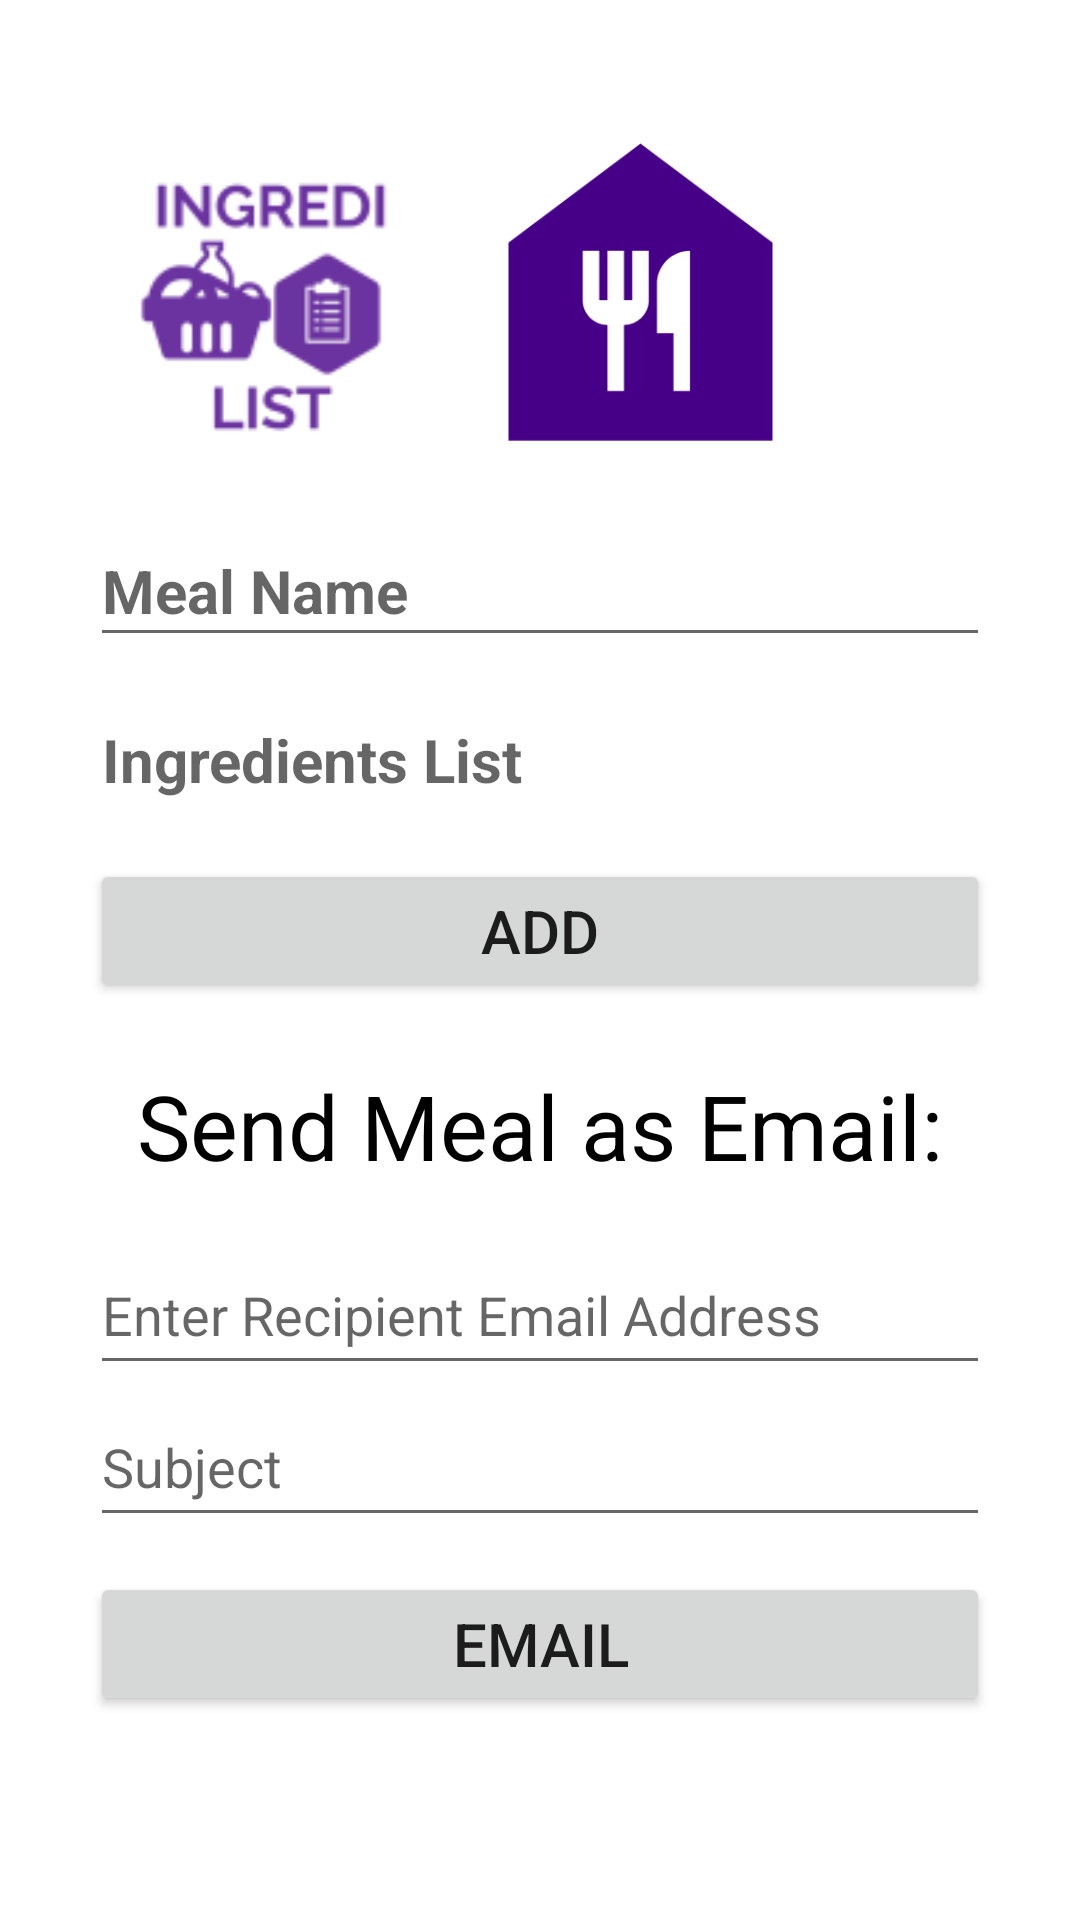

Named icons in this screenshot (1080 × 1920) and their centers, [x,y]:
food bank: [640,292]
